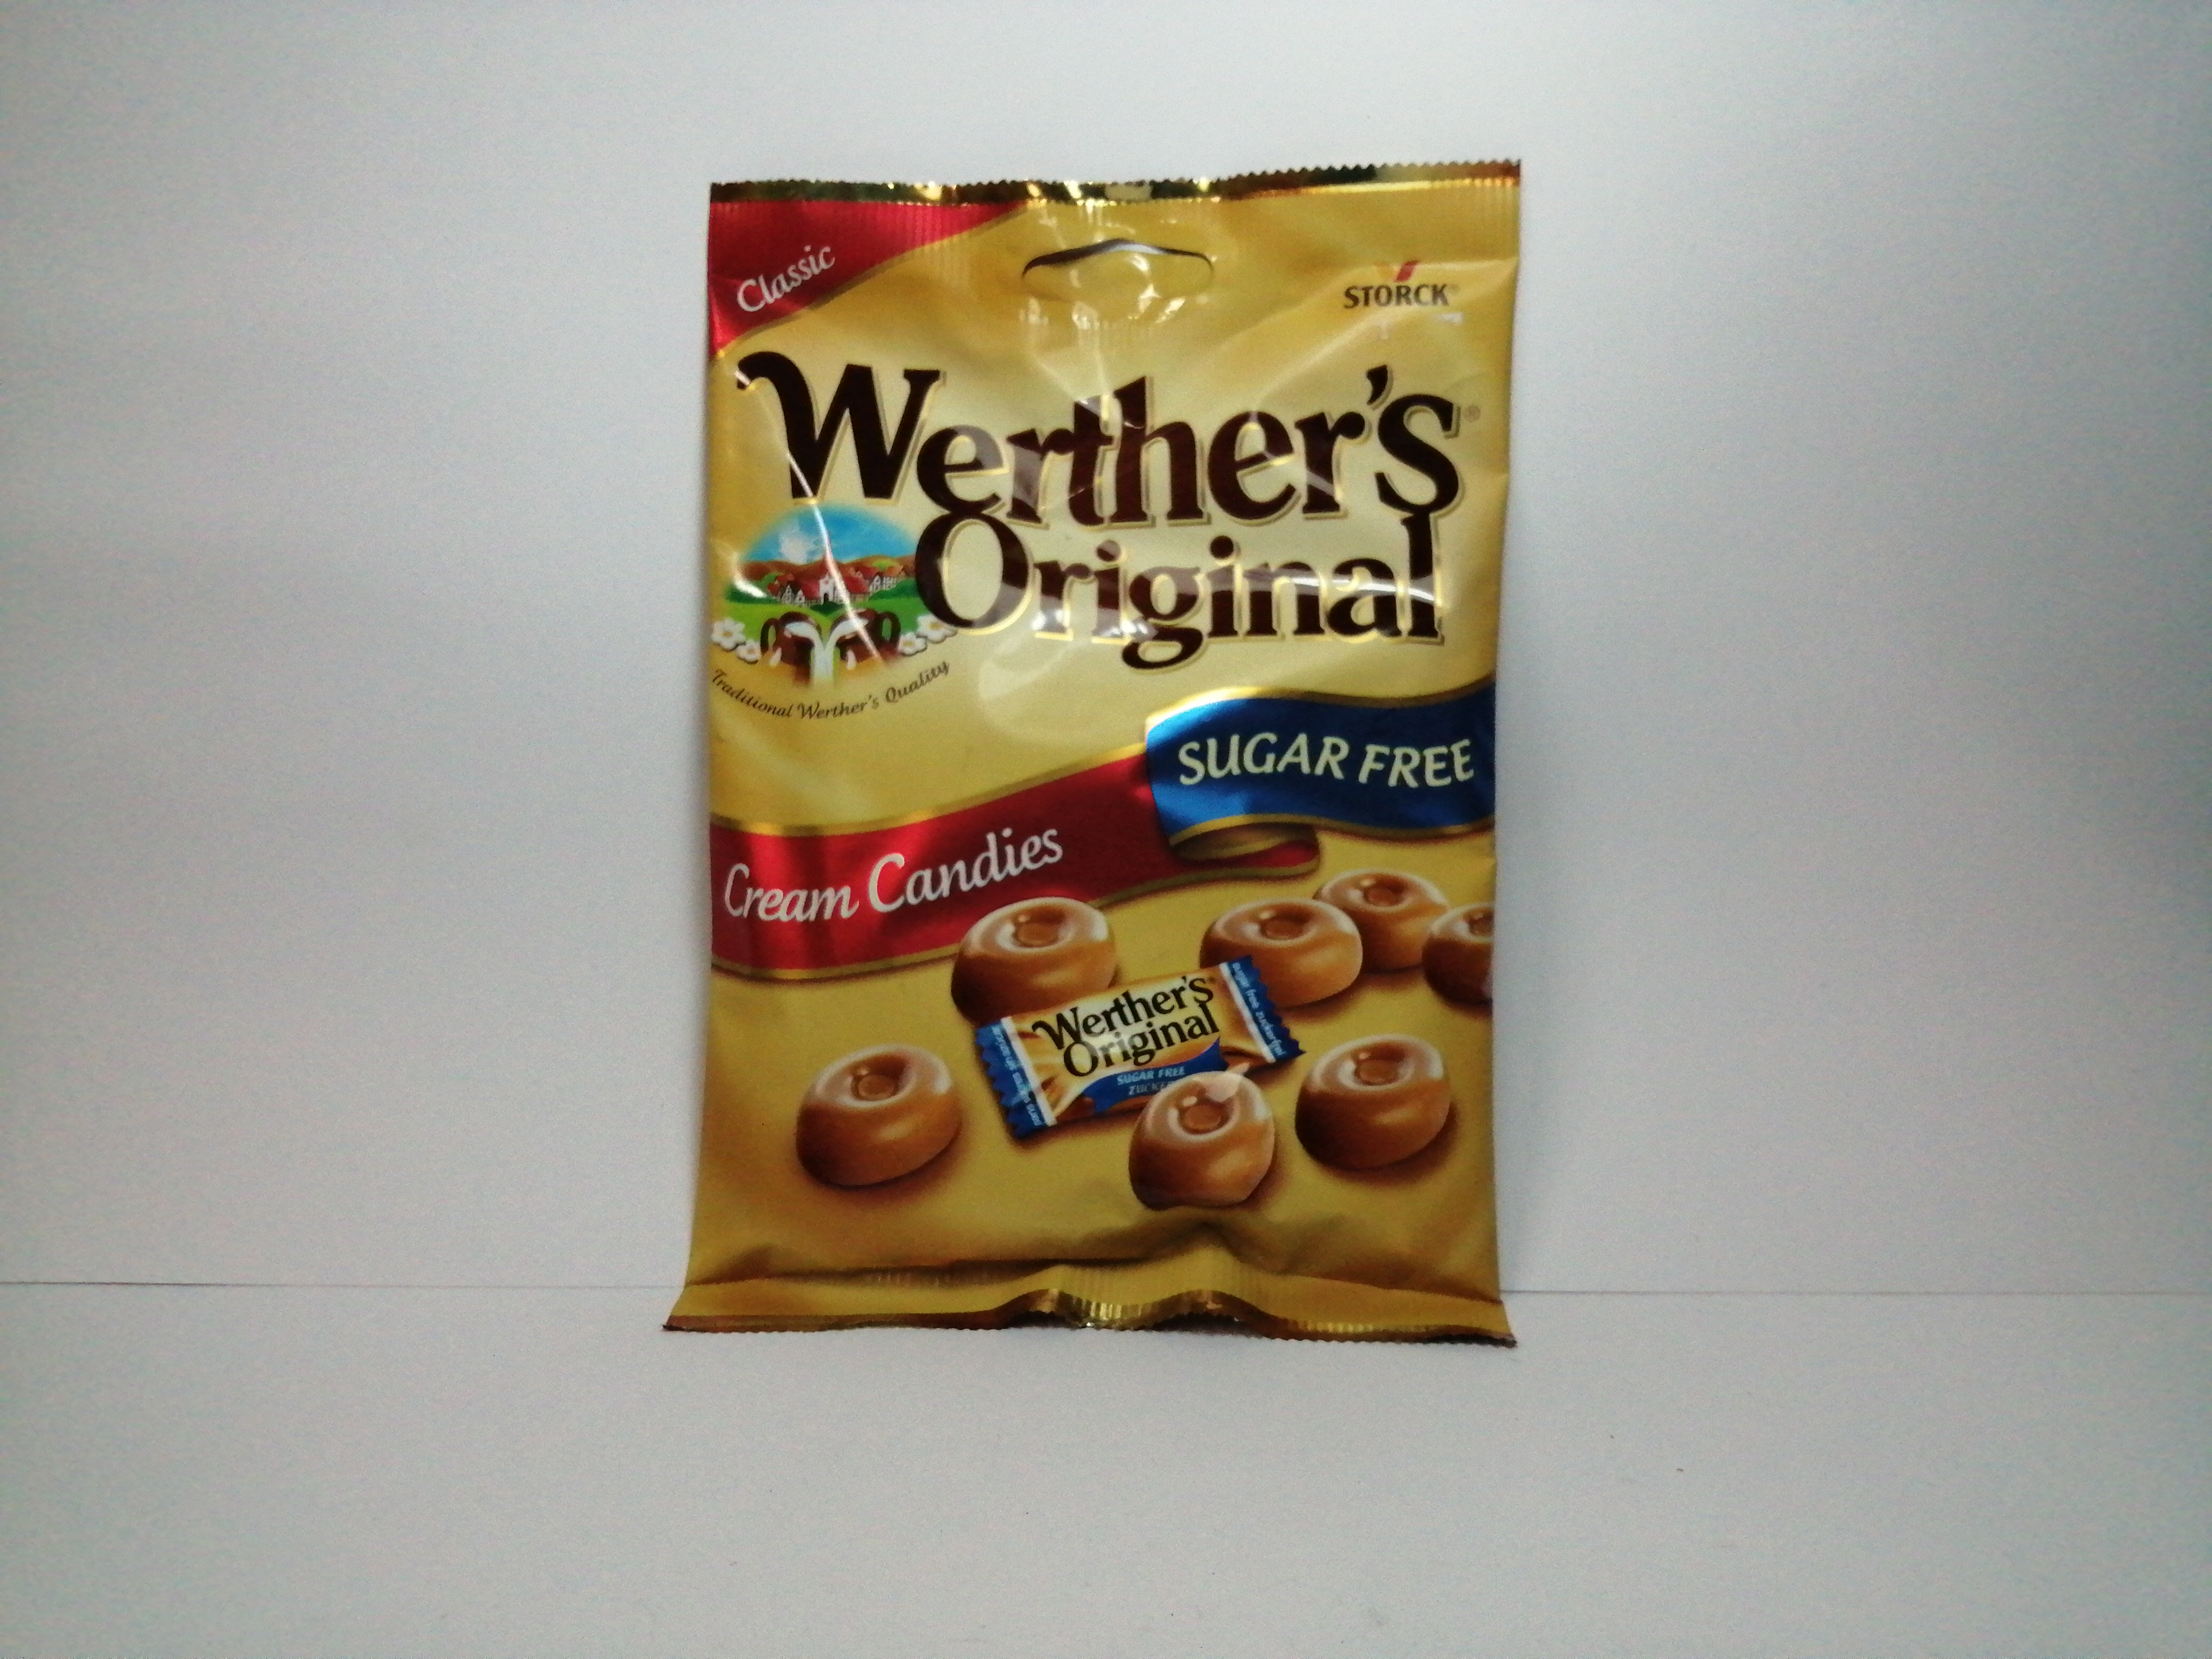dulces: (655, 174, 1529, 1359)
